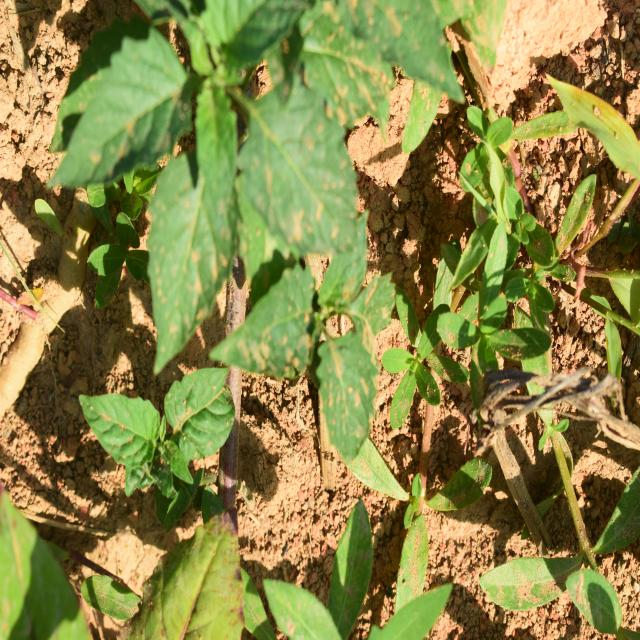Black_nightshade: (80, 0, 408, 284), (236, 249, 396, 433), (82, 358, 232, 499)
